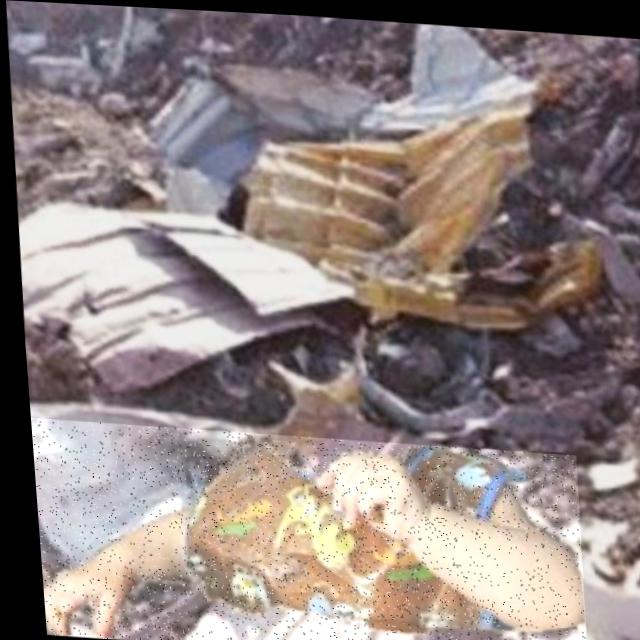Person in Rubble: (24, 417, 581, 640)
